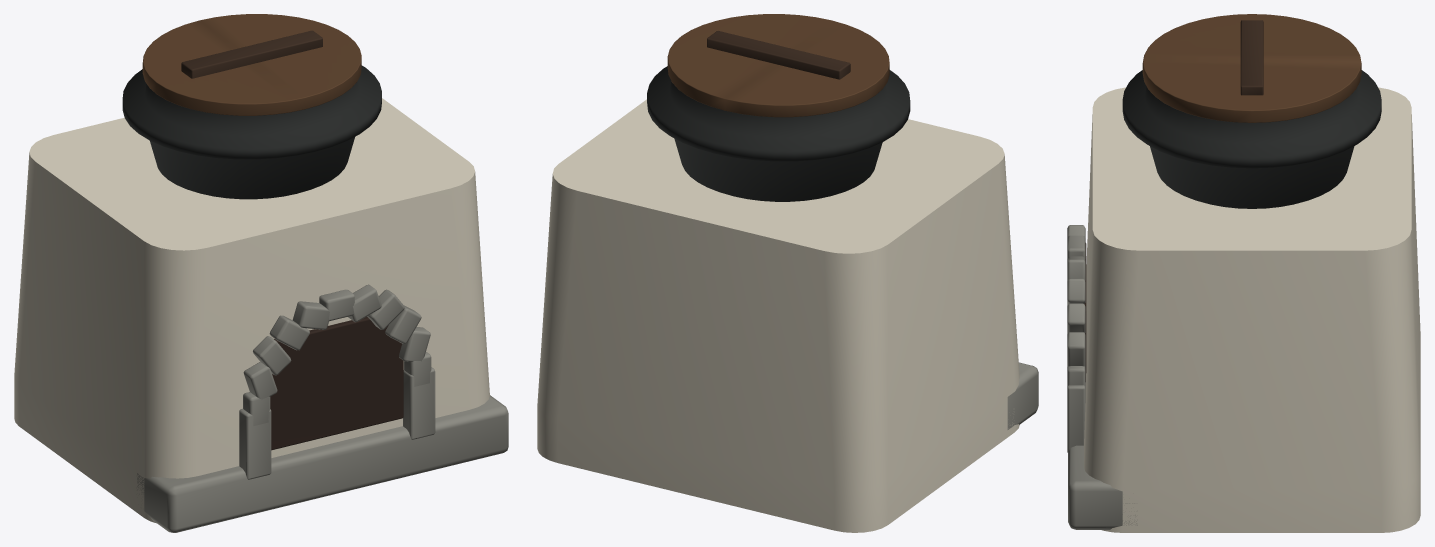
Rendered from kominka-kamado-single-01.glb.
3 renders of one model, left to right at view 1: azimuth 30°, elevation 25°; view 2: azimuth 150°, elevation 25°; view 3: azimuth 270°, elevation 25°, orthographic. The views are drawn at different scales.
Visible parts, largest first — view 1: kominka-kamado-single-01; view 2: kominka-kamado-single-01; view 3: kominka-kamado-single-01.
Boxes of the visible parts, x1,y1,x2,y2 form: kominka-kamado-single-01: (14,14,508,532); kominka-kamado-single-01: (537,14,1038,532); kominka-kamado-single-01: (1067,14,1420,532).
Size of the model in its own units: 0.75 by 0.8 by 0.65.
